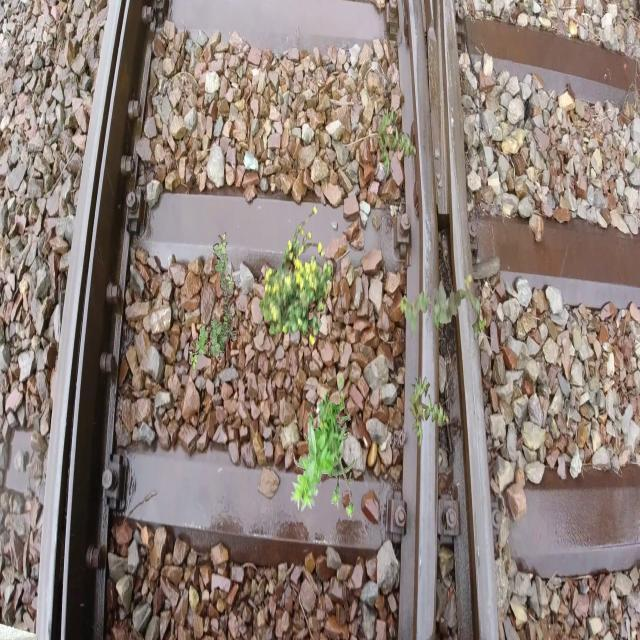Plant: (259, 206, 334, 346), (291, 376, 356, 520), (189, 233, 238, 371), (400, 273, 487, 342), (376, 106, 418, 178), (408, 376, 450, 448)
